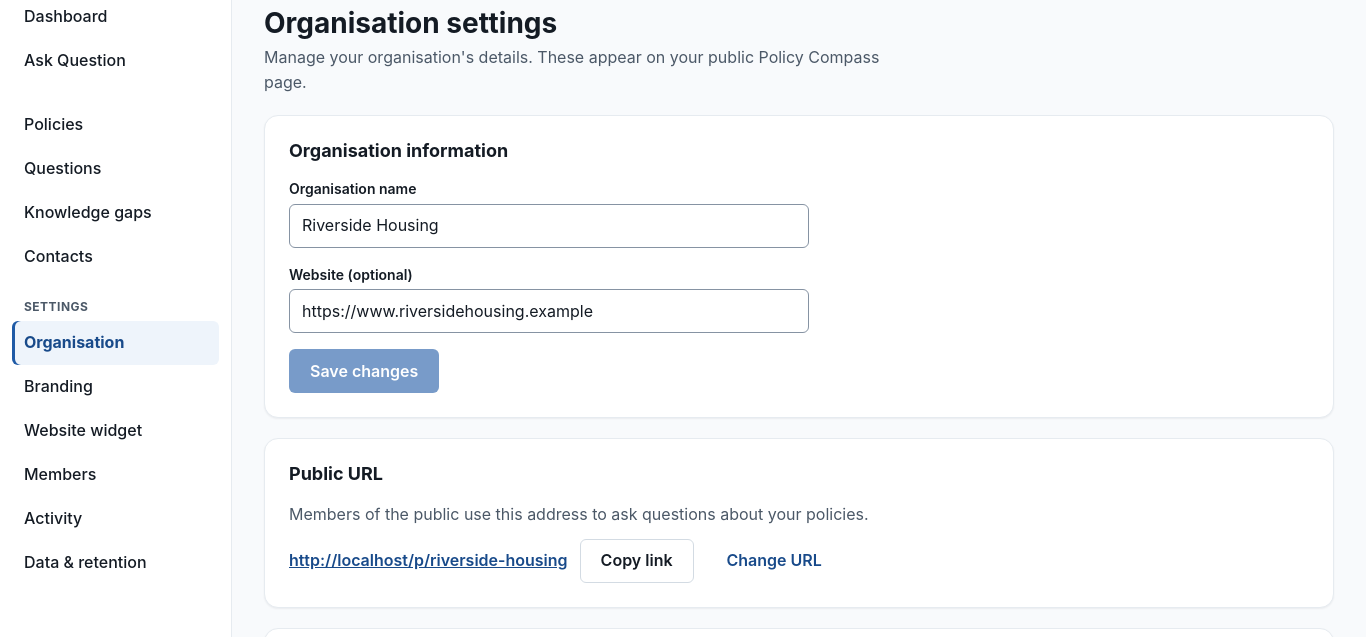
Changing the public URL › cancelling the warning leaves the URL unchanged
This screenshot has width=1366, height=637.
Click the button "Change URL": (774, 561) x1=706 y1=539 x2=843 y2=583
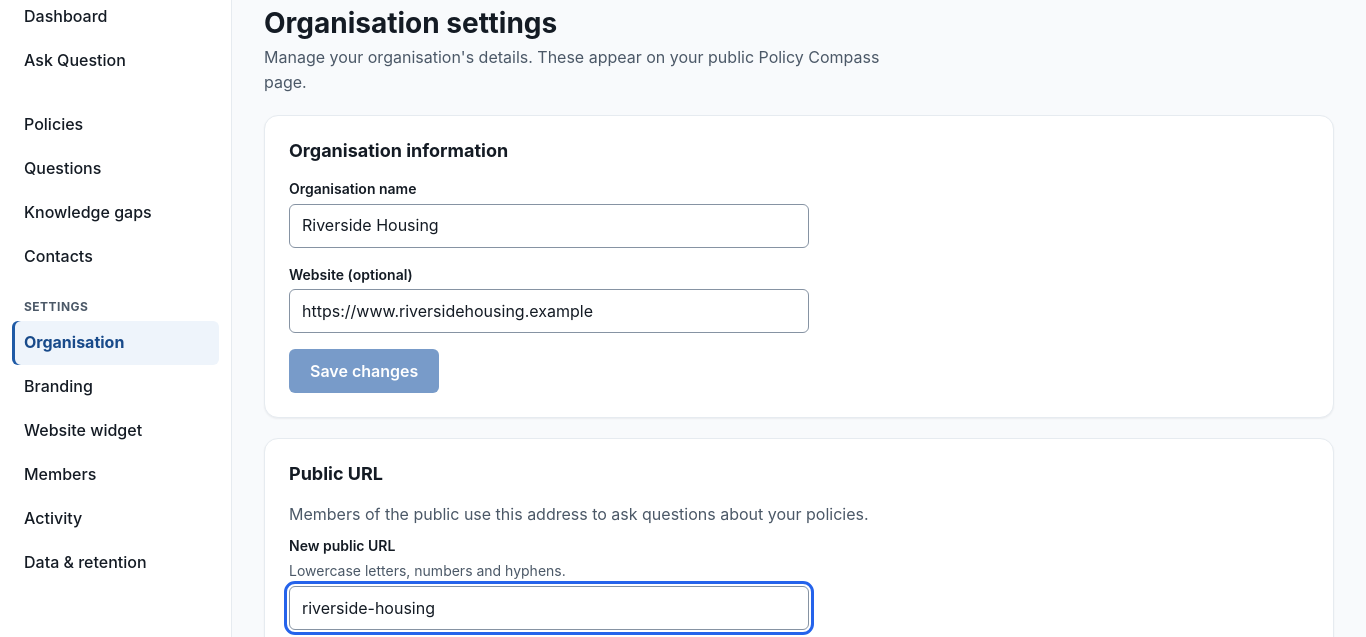
Replace the text in the field labelled "New public URL" with "riverside-homes": (549, 608) x1=289 y1=586 x2=809 y2=630
(page scrolled)
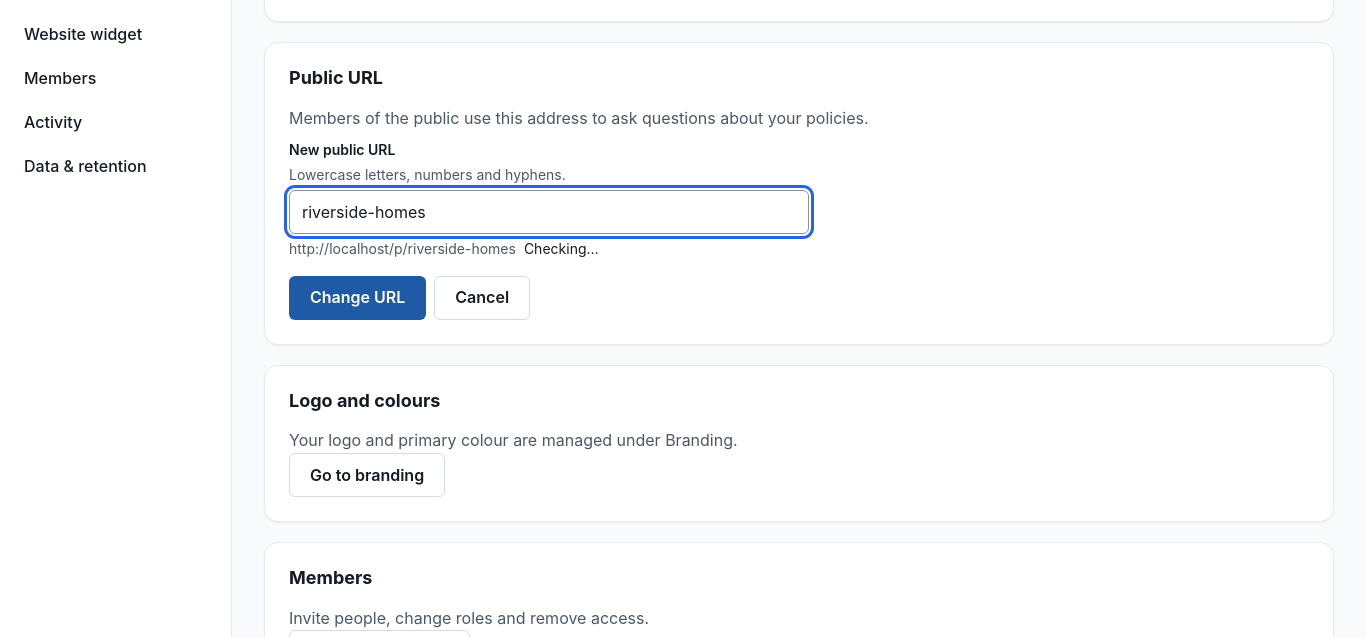
Click the button "Change URL": (358, 298) x1=289 y1=276 x2=426 y2=320
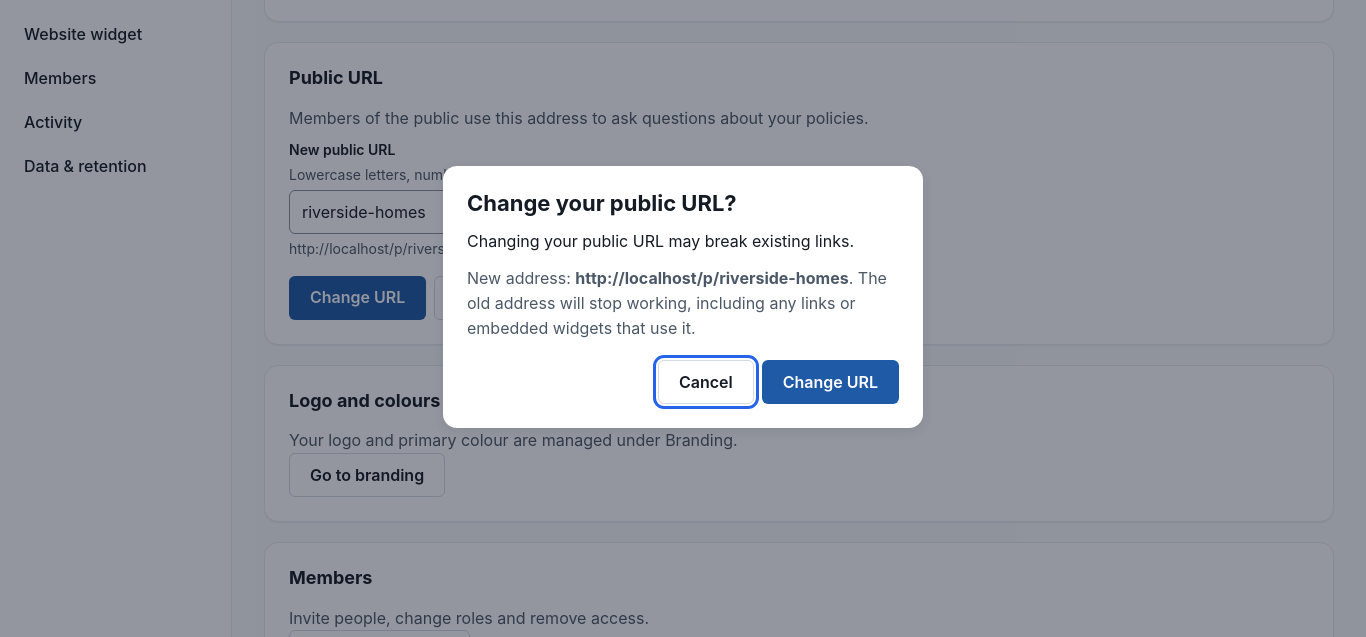
Click the button "Cancel": (706, 382) x1=658 y1=360 x2=754 y2=404
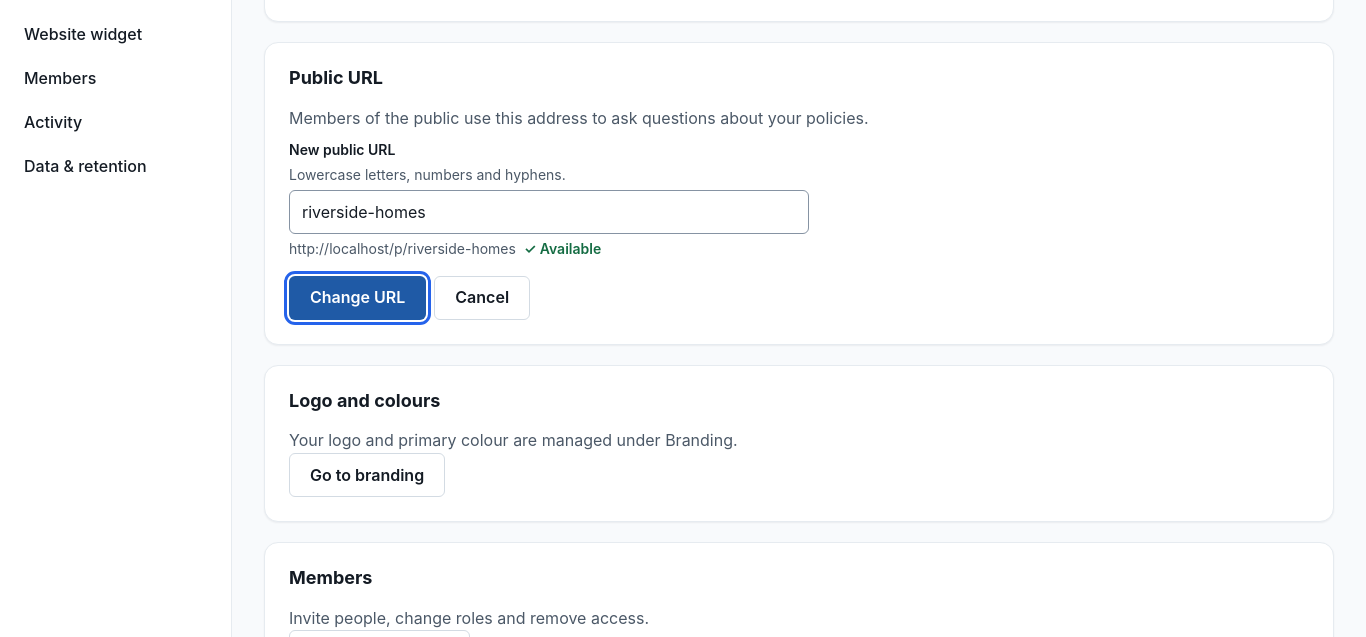
Result: the dialog is gone
